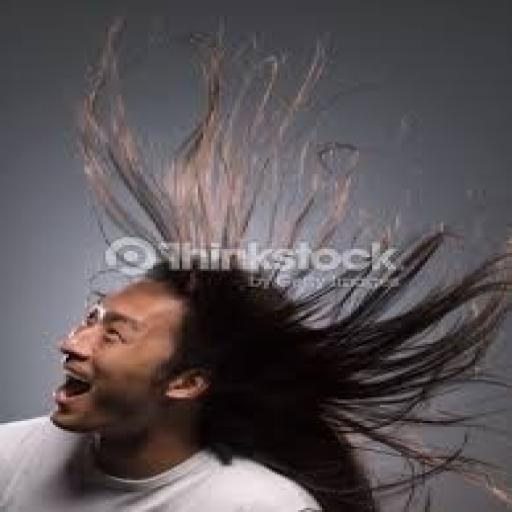laughing: (0, 14, 509, 510)
